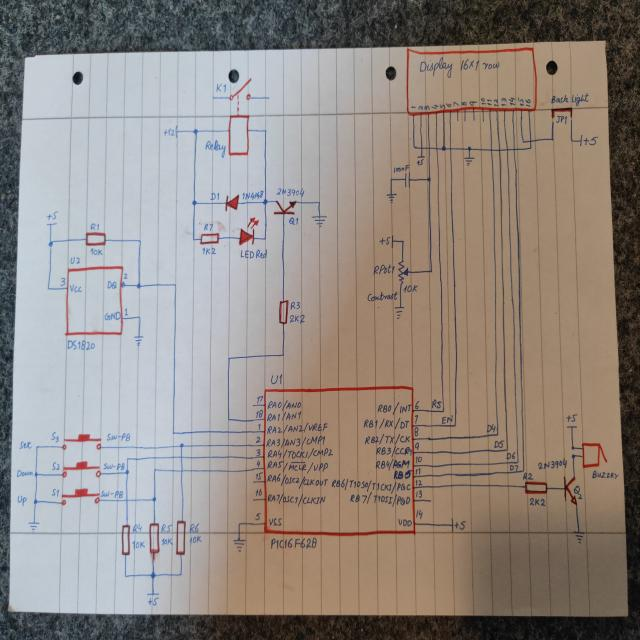capacitor: (404, 172, 410, 188)
crossover: (124, 497, 130, 503), (497, 147, 502, 153), (179, 454, 184, 460), (419, 144, 424, 150), (489, 146, 493, 153), (434, 146, 438, 152), (505, 147, 509, 153), (512, 146, 516, 152), (427, 145, 431, 151), (448, 146, 452, 152), (180, 468, 184, 473), (529, 138, 532, 144)
diode: (239, 216, 259, 247), (225, 194, 240, 212)
ground: (311, 215, 328, 228), (232, 538, 246, 552), (463, 153, 475, 167), (132, 334, 144, 347), (573, 531, 585, 544), (28, 521, 40, 533), (394, 306, 404, 320), (386, 192, 397, 204)
junction: (149, 570, 157, 579), (192, 127, 200, 136), (191, 198, 198, 208), (48, 238, 54, 248), (136, 282, 142, 290), (262, 126, 268, 134), (178, 441, 184, 449), (151, 496, 157, 504), (178, 570, 184, 578), (136, 237, 142, 245), (262, 198, 268, 206), (426, 176, 432, 183), (226, 416, 232, 423), (226, 355, 232, 362), (46, 284, 51, 292), (136, 314, 142, 320), (172, 282, 178, 288), (152, 467, 158, 473), (236, 521, 242, 527), (123, 572, 128, 579), (569, 137, 574, 144), (191, 235, 196, 242), (33, 498, 38, 505), (171, 429, 176, 436), (516, 458, 521, 465), (550, 136, 555, 142), (316, 200, 321, 206), (441, 145, 446, 151), (452, 422, 457, 428), (429, 267, 433, 274), (467, 146, 472, 151), (441, 408, 446, 413), (505, 447, 510, 452), (401, 238, 405, 244), (34, 471, 38, 477), (125, 469, 129, 475), (126, 456, 130, 462), (571, 453, 575, 459), (412, 144, 416, 150), (496, 431, 500, 437), (281, 352, 285, 357), (528, 145, 532, 150), (263, 236, 267, 241), (36, 444, 40, 449), (522, 468, 526, 473), (522, 139, 525, 144), (571, 446, 574, 450), (390, 178, 392, 181)
resistor: (176, 519, 187, 556), (148, 522, 160, 554), (524, 480, 548, 495), (120, 524, 131, 556), (396, 258, 410, 282), (278, 298, 289, 326), (85, 232, 106, 246), (199, 232, 220, 245)
switch: (61, 487, 101, 507), (61, 433, 102, 451), (62, 460, 101, 478), (550, 106, 574, 125)
terminal: (146, 591, 160, 596), (450, 516, 454, 533), (390, 234, 394, 250), (46, 222, 57, 226), (566, 425, 577, 429), (175, 125, 178, 138), (580, 134, 582, 147), (417, 156, 425, 158)
text: (419, 56, 500, 78), (331, 478, 411, 494), (266, 472, 328, 489), (267, 491, 326, 508), (350, 491, 410, 507), (266, 446, 334, 459), (266, 460, 328, 474), (267, 421, 328, 435), (266, 435, 326, 449), (270, 537, 318, 551), (550, 92, 590, 107), (363, 416, 409, 429), (364, 433, 410, 445), (377, 401, 412, 415), (266, 410, 302, 423), (376, 445, 412, 458), (375, 458, 410, 471), (266, 399, 302, 411), (205, 138, 226, 158), (367, 290, 399, 303), (537, 458, 568, 471), (67, 339, 96, 351), (240, 248, 268, 260), (105, 431, 132, 443), (276, 187, 304, 198), (372, 263, 395, 276), (592, 470, 619, 479), (100, 489, 123, 499), (104, 309, 121, 322), (242, 190, 264, 200), (393, 470, 413, 480), (103, 462, 125, 471), (16, 468, 33, 479), (268, 515, 282, 528), (270, 372, 283, 386), (583, 135, 599, 146), (529, 496, 546, 506), (289, 314, 305, 324), (393, 164, 410, 173), (573, 484, 583, 499), (70, 282, 82, 294), (19, 440, 33, 450), (403, 284, 418, 293), (106, 279, 118, 290), (16, 494, 27, 506), (148, 596, 160, 607), (216, 82, 227, 94), (189, 522, 200, 534), (556, 114, 569, 124), (46, 210, 59, 220), (189, 535, 202, 545), (398, 518, 412, 527), (431, 399, 442, 410), (486, 422, 496, 434), (454, 520, 466, 530), (379, 236, 391, 246), (161, 523, 173, 533), (132, 522, 142, 534), (50, 430, 59, 443), (132, 540, 145, 549), (202, 247, 216, 255), (442, 415, 453, 425), (288, 216, 299, 226), (89, 222, 100, 232), (566, 413, 578, 422), (161, 537, 173, 546), (90, 248, 103, 256), (290, 300, 300, 310), (494, 439, 504, 449), (508, 462, 518, 472), (203, 223, 214, 232), (70, 256, 81, 265), (163, 128, 175, 136), (415, 508, 423, 520), (506, 451, 516, 460), (210, 192, 220, 201), (522, 472, 533, 480), (52, 461, 60, 471), (256, 409, 264, 419), (508, 96, 516, 106), (517, 96, 524, 107), (256, 395, 264, 404), (255, 471, 263, 480), (255, 488, 263, 497), (51, 488, 59, 497), (415, 489, 423, 498), (414, 455, 422, 464), (414, 400, 421, 410), (60, 276, 66, 287), (416, 158, 424, 166), (254, 512, 261, 521), (415, 479, 423, 486), (525, 98, 531, 107), (493, 98, 499, 107), (469, 100, 478, 106), (439, 103, 446, 110), (255, 436, 261, 444), (415, 467, 421, 475), (452, 101, 460, 107), (431, 104, 439, 110), (256, 448, 261, 457), (414, 442, 419, 451), (501, 97, 506, 106), (481, 97, 486, 106), (414, 426, 418, 437), (445, 102, 452, 108), (414, 414, 418, 424), (487, 98, 492, 106), (256, 459, 260, 468), (461, 100, 467, 106), (424, 105, 430, 111), (124, 308, 128, 316), (257, 422, 261, 430), (124, 272, 128, 280), (418, 105, 423, 110), (411, 105, 416, 109)
transistor: (563, 475, 578, 505), (273, 199, 296, 216)
